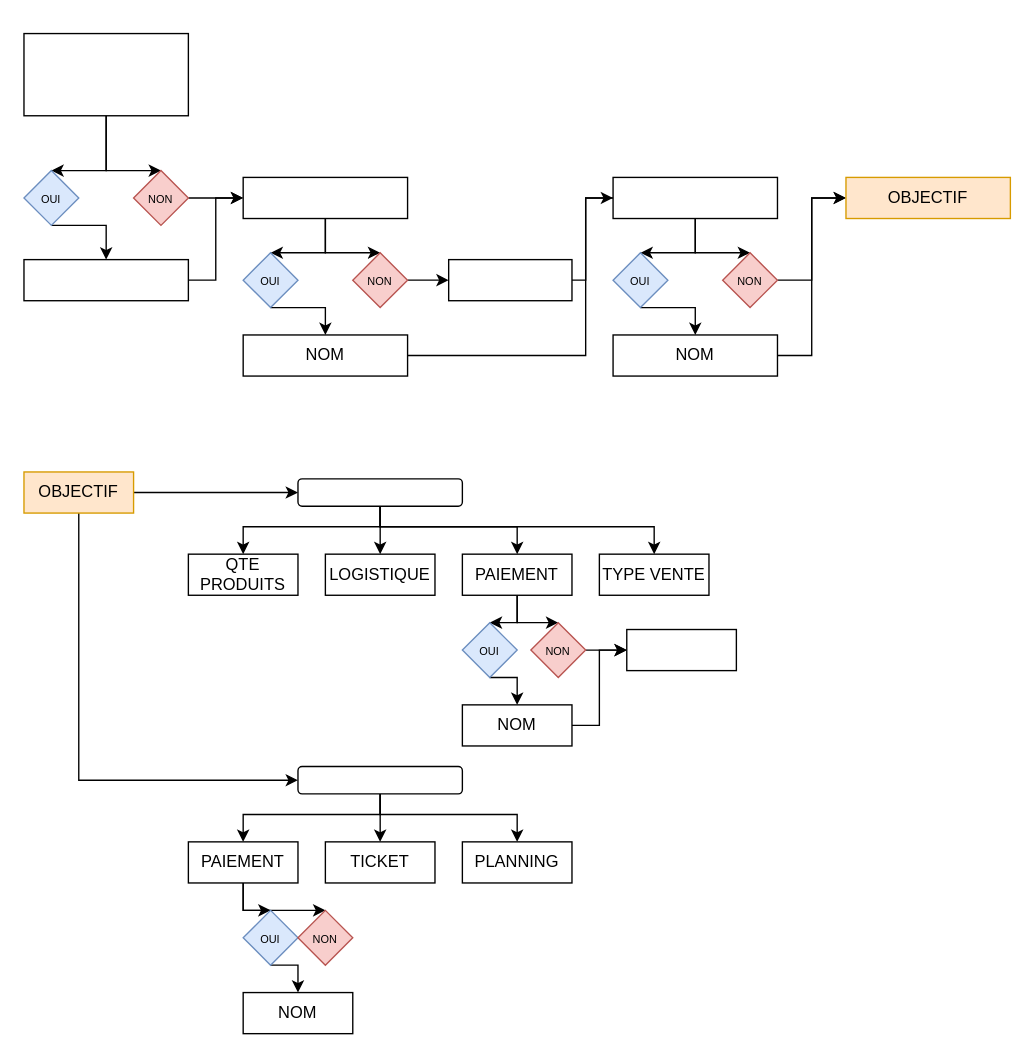
Image size: 1034x1058. Some labels were removed from this diagram. Each missing label, with the centre of its shape:
DOMAINE ?: [325,197]
E-COMMERCE: [379,491]
HEBERGEMENT: [694,197]
RECHERCHE: [509,279]
RESERVATION: [379,779]
SITE ?: [105,74]
URL: [105,279]
X FOIS: [680,649]
